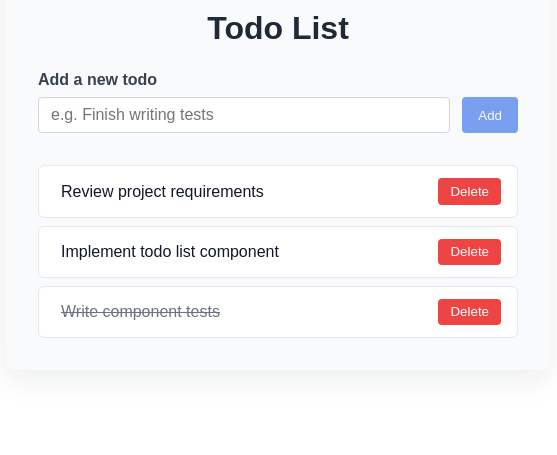
Test: allows users to add a new todo item
The width and height of the screenshot is (557, 455).
In the field labelled "Add a new todo": (244, 115) x1=38 y1=97 x2=450 y2=133, type "Ship the release"
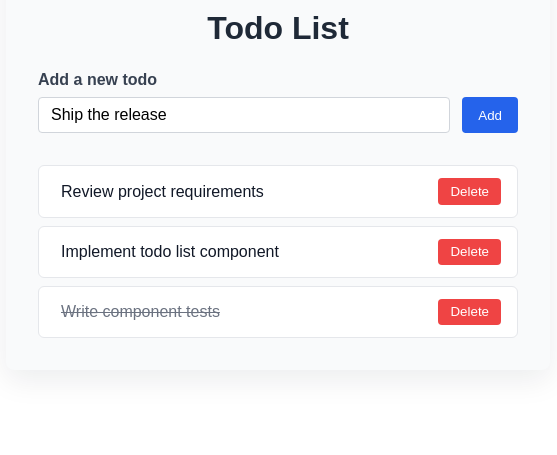
Click the button "Add": (490, 115) x1=462 y1=97 x2=518 y2=133
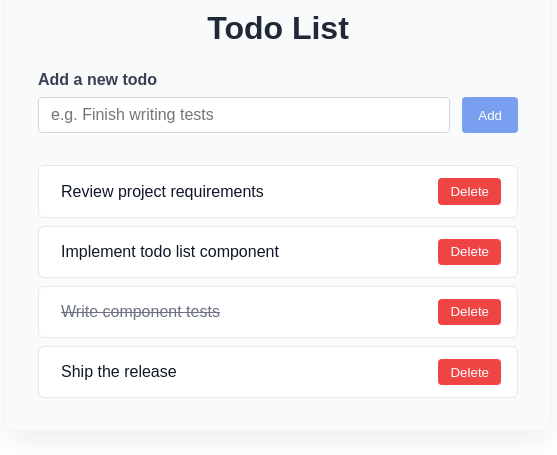
Result: the button "Ship the release" is shown at x1=55 y1=362 x2=426 y2=382
Result: the field labelled "Add a new todo" is empty at x1=38 y1=97 x2=450 y2=133
